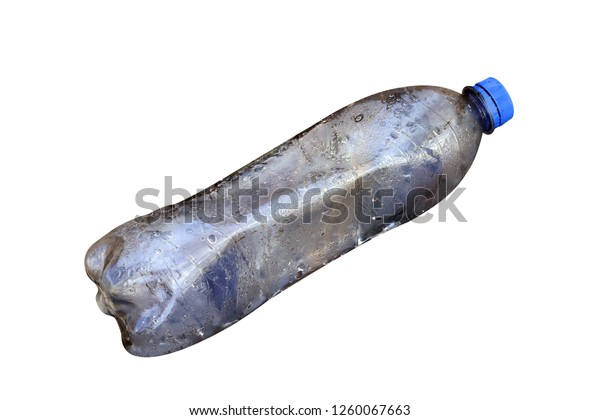plastic_bottle: (46, 14, 558, 362)
